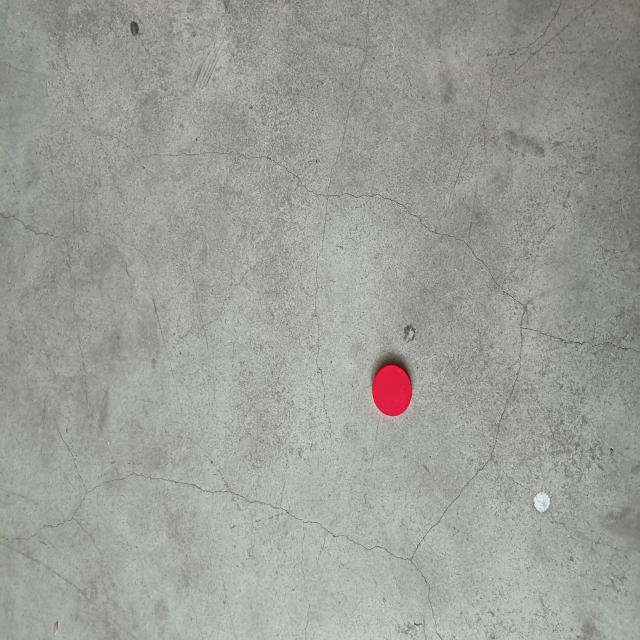chip: (373, 365, 412, 416)
